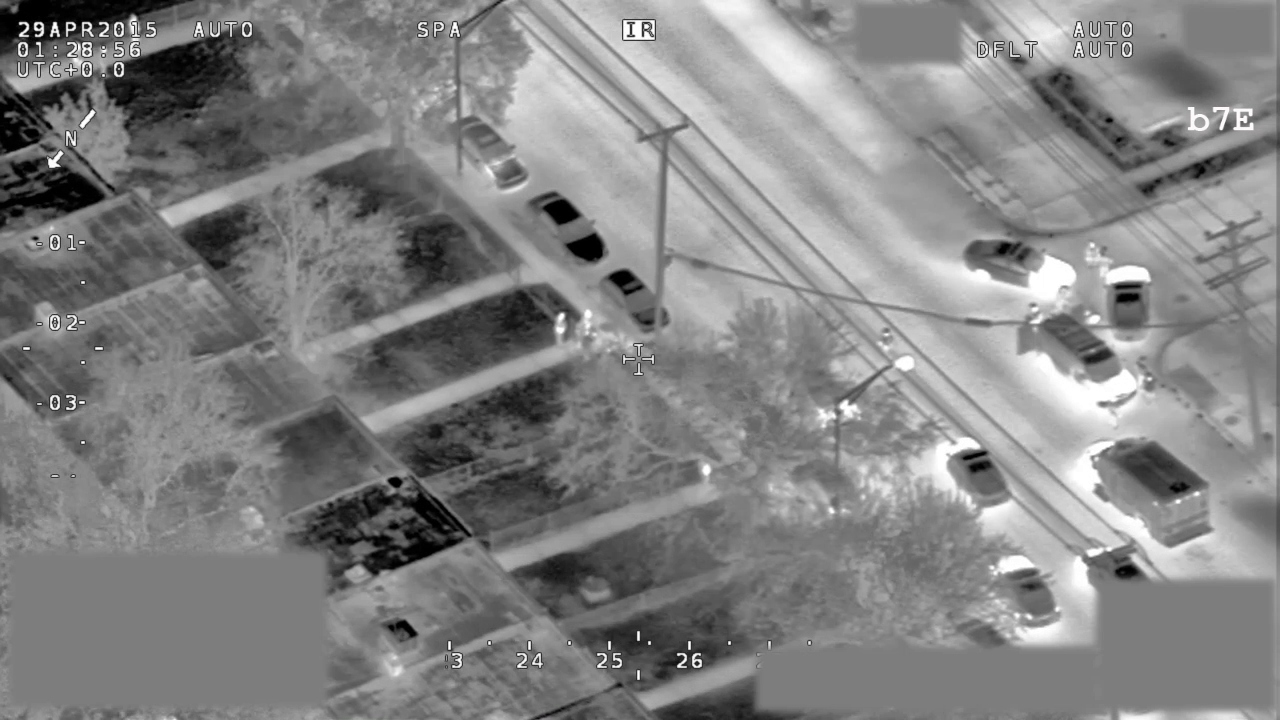vehicle: (1071, 435, 1216, 546), (1032, 312, 1146, 409), (960, 233, 1079, 303), (444, 110, 535, 195), (528, 190, 615, 273), (934, 435, 1015, 515), (988, 549, 1062, 632), (602, 264, 674, 337), (1099, 263, 1155, 343), (1075, 541, 1154, 583)
